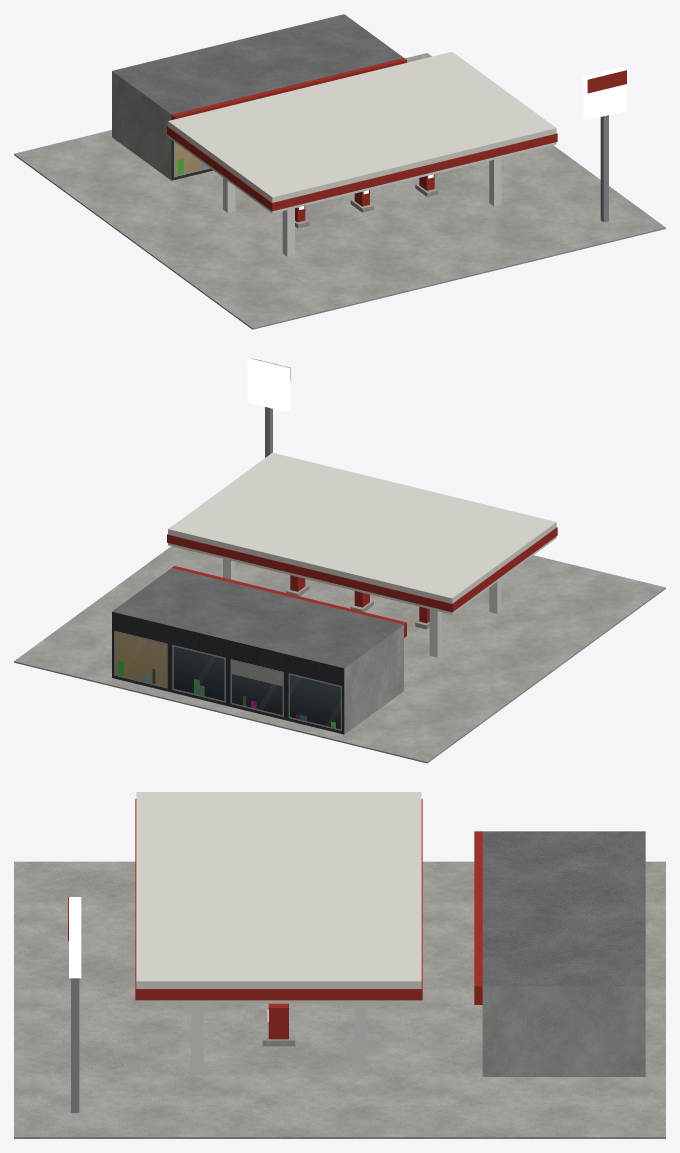
File: 091_gas_station.glb
3 renders of one model, top to bottom at view 1: azimuth 30°, elevation 25°; view 2: azimuth 150°, elevation 25°; view 3: azimuth 270°, elevation 25°, orthographic. The views are drawn at different scales.
Visible parts, largest first — view 1: 091_gas_station; view 2: 091_gas_station; view 3: 091_gas_station.
Boxes of the visible parts, x1,y1,x2,y2 form: 091_gas_station: (14,14,665,329); 091_gas_station: (14,358,665,763); 091_gas_station: (14,792,665,1138).
Size of the model in its own units: 32 by 11 by 32.
7 materials, 3 textured.
